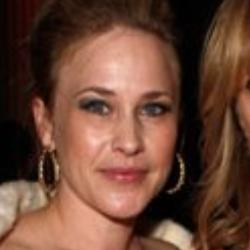face: (18, 4, 194, 226)
